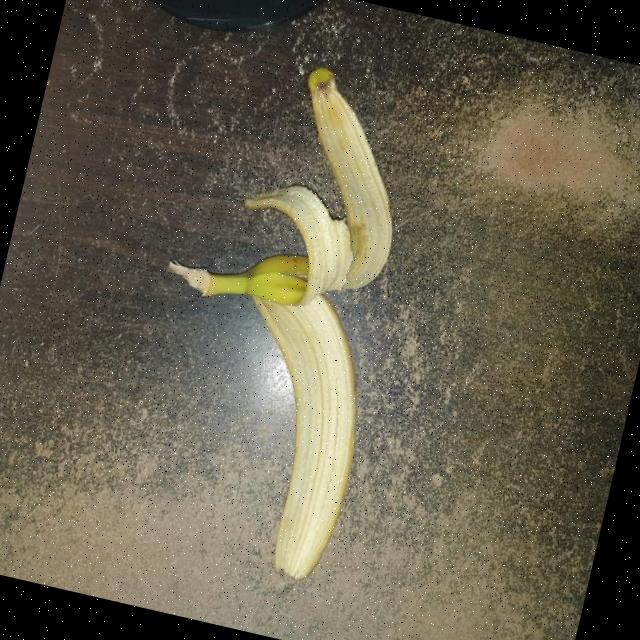banana-peel: (103, 41, 440, 588), (260, 61, 427, 298)
